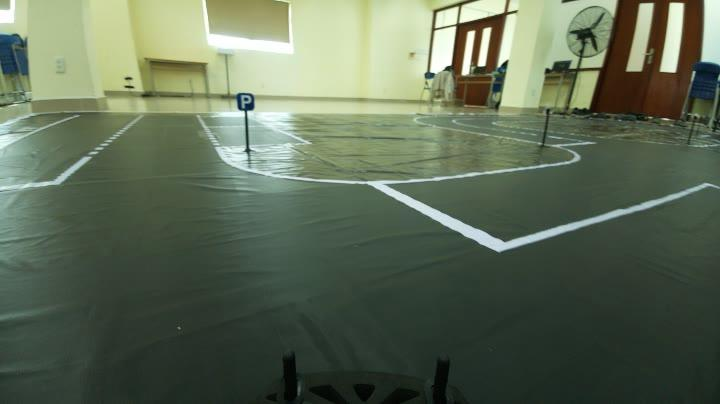parking: (233, 86, 257, 111)
